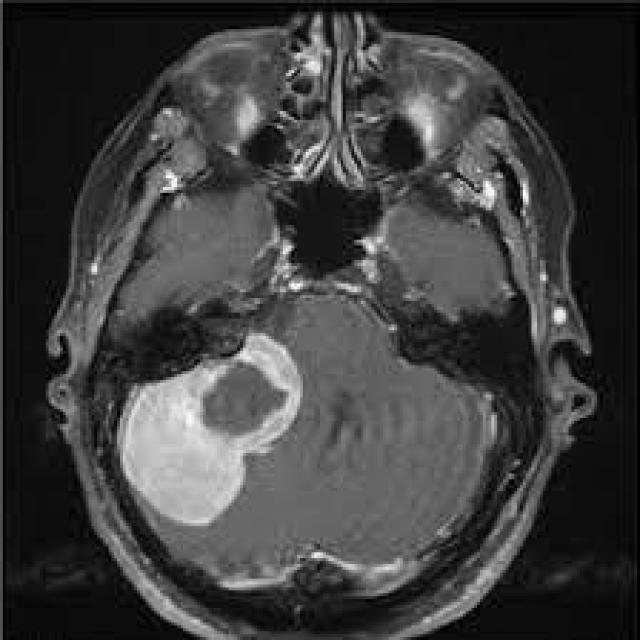Tumor: (120, 333, 303, 529)
